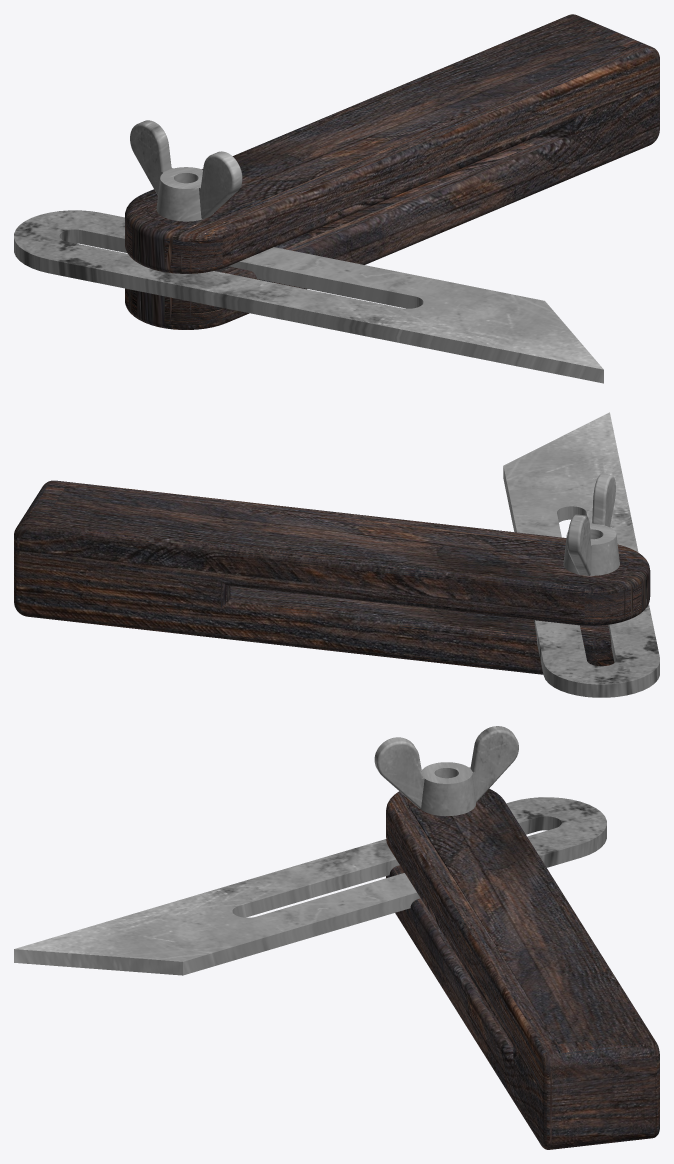
Rendered from schmiege.glb.
3 views of the same model, one above another, from view 1: azimuth 30°, elevation 25°; view 2: azimuth 150°, elevation 25°; view 3: azimuth 270°, elevation 25° (orthographic). The views are drawn at different scales.
Visible parts, largest first — view 1: HANDLE__1_, BLADE, Body4.001, Body1, Body4, Body21, Body10; view 2: HANDLE__1_, Body4.001, BLADE, Body1, Body4; view 3: HANDLE__1_, BLADE, Body4.001, Body1, Body4.
Boxes of the visible parts, x1,y1,x2,y2 form: HANDLE__1_: [125, 14, 659, 329]; BLADE: [14, 210, 603, 383]; Body4.001: [147, 24, 625, 225]; Body1: [130, 120, 242, 221]; Body4: [36, 219, 564, 351]; Body21: [547, 140, 651, 184]; Body10: [547, 57, 651, 116]; HANDLE__1_: [14, 480, 650, 674]; Body4.001: [45, 488, 628, 579]; BLADE: [503, 412, 659, 697]; Body1: [563, 474, 619, 575]; Body4: [525, 434, 638, 675]; HANDLE__1_: [386, 788, 659, 1149]; BLADE: [14, 797, 606, 975]; Body4.001: [409, 797, 632, 1044]; Body1: [374, 726, 518, 816]; Body4: [70, 806, 584, 951].
Size of the model in its own units: 0.0764 by 0.0193 by 0.0676.
Materials: 2 (2 with a texture image).
